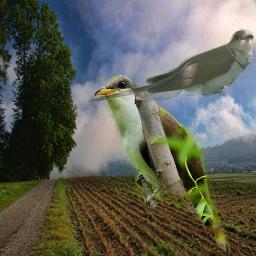Cuckoo: (89, 75, 239, 255), (85, 28, 254, 105)
